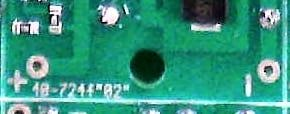chip-resistor: (9, 17, 41, 39), (47, 3, 62, 37)
